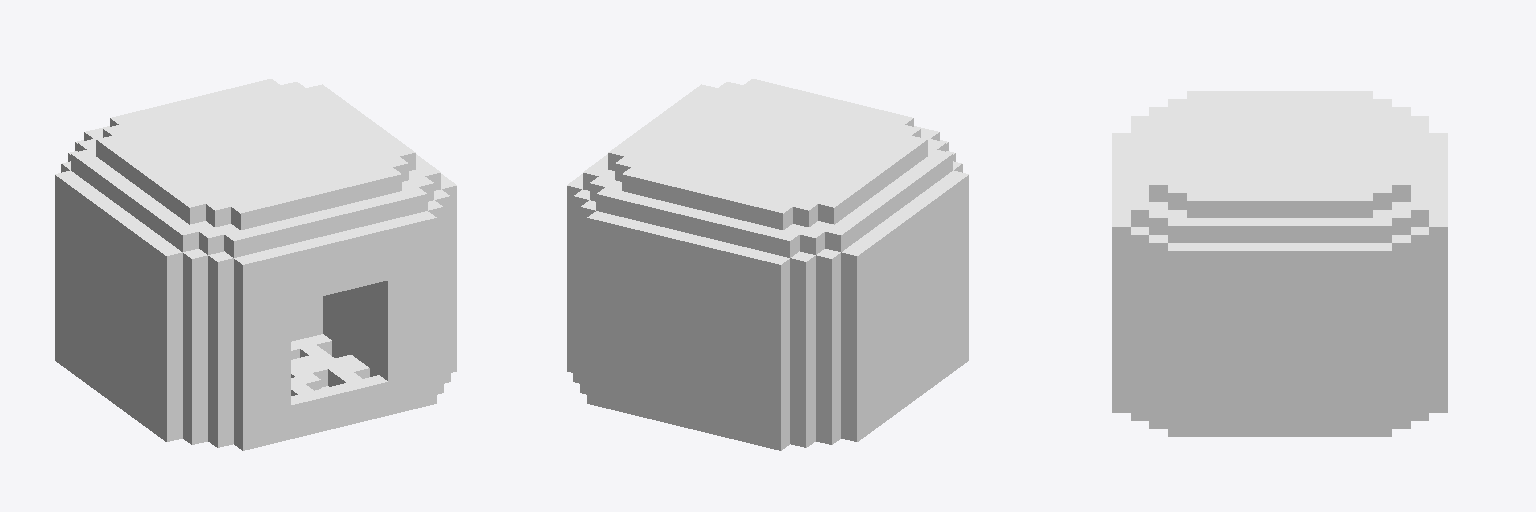
Rendered from Oven.obj.
3 renders of one model, left to right at view 1: azimuth 30°, elevation 25°; view 2: azimuth 150°, elevation 25°; view 3: azimuth 270°, elevation 25°, orthographic.
Visible parts, largest first — view 1: object 1; view 2: object 1; view 3: object 1.
Part boxes in pixels (bbox=[...]): object 1: bbox=[55, 79, 456, 450]; object 1: bbox=[567, 79, 968, 450]; object 1: bbox=[1112, 91, 1447, 436].
Size of the model in its own units: 1.8 by 1.3 by 1.8.